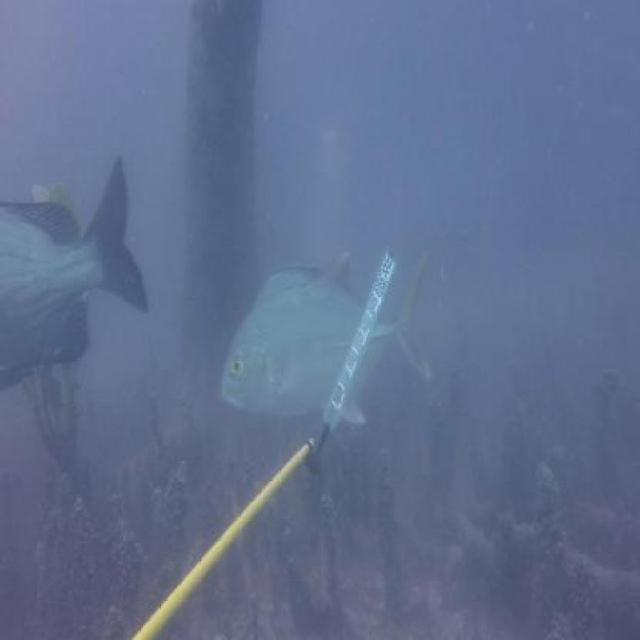Caranx: (218, 243, 434, 429)
acanthopagrus_palmaris: (0, 153, 149, 392), (257, 266, 321, 303)
